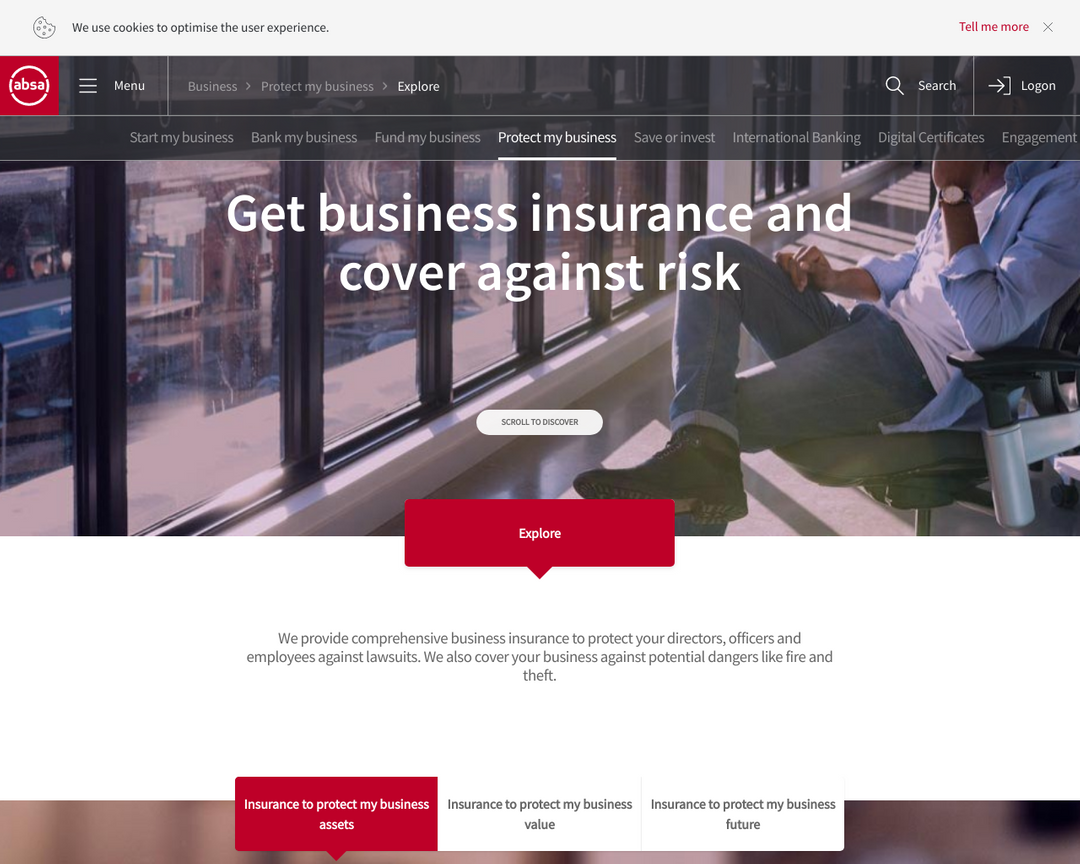ABSA: (5, 64, 54, 108)
